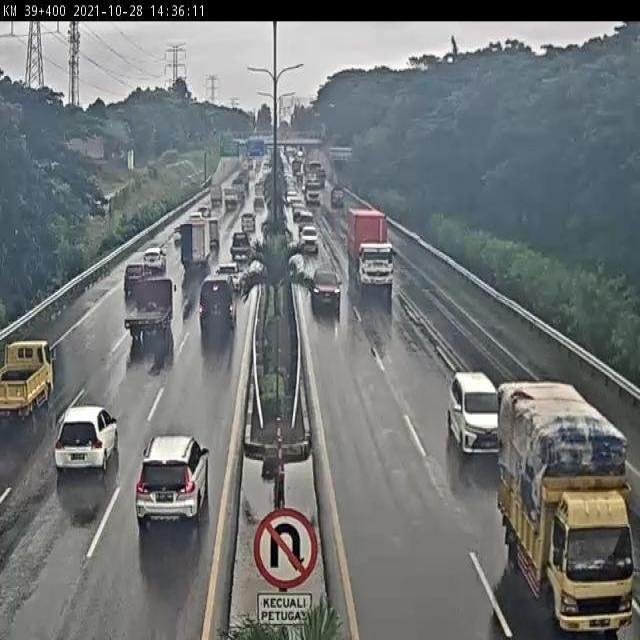ARABA: (140, 429, 210, 540), (442, 364, 507, 464), (56, 401, 107, 500), (305, 263, 346, 320), (197, 284, 231, 351), (143, 244, 167, 283), (213, 265, 238, 299), (115, 262, 145, 290), (229, 235, 251, 265), (297, 228, 321, 251), (239, 215, 255, 240), (293, 205, 315, 220), (252, 193, 265, 216), (170, 228, 179, 245)
KAMYONET: (511, 391, 631, 633), (0, 325, 64, 415), (121, 287, 171, 349)
TIR: (350, 211, 390, 301), (181, 222, 216, 274)
